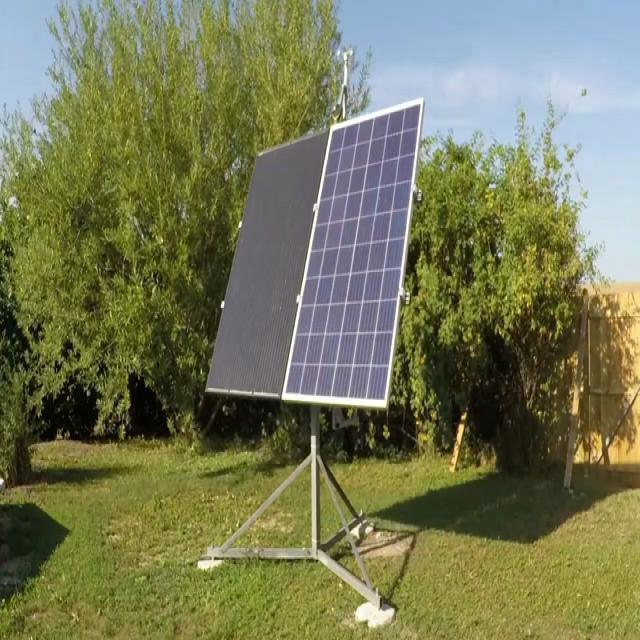Normal Solar Panel: (283, 102, 422, 403), (204, 130, 329, 397)
